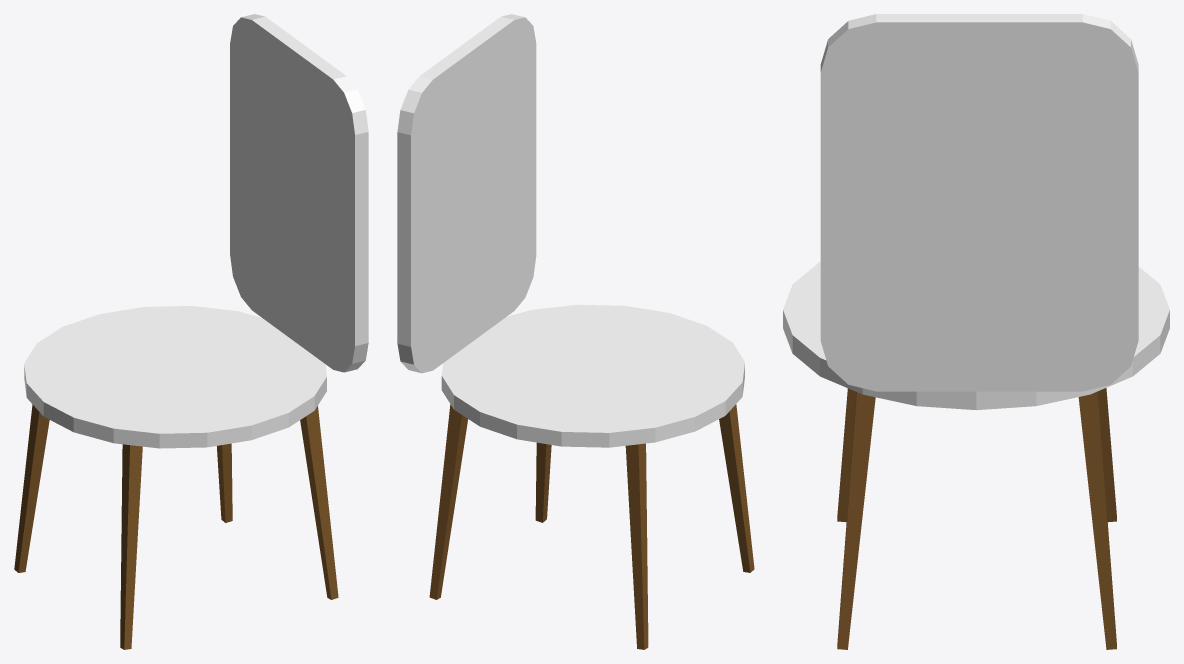
The model's file is Chair_3.fbx.
3 views of the same model, side by side, from view 1: azimuth 30°, elevation 25°; view 2: azimuth 150°, elevation 25°; view 3: azimuth 270°, elevation 25° (orthographic). The views are drawn at different scales.
Parts seen in each view (by area): view 1: Chair_3; view 2: Chair_3; view 3: Chair_3.
Boxes of the visible parts, <box> form: Chair_3: <box>14,14,368,649</box>; Chair_3: <box>397,14,754,649</box>; Chair_3: <box>783,14,1169,649</box>.
Bounding box in the file's own units: 0.341 × 0.6253 × 0.341.
